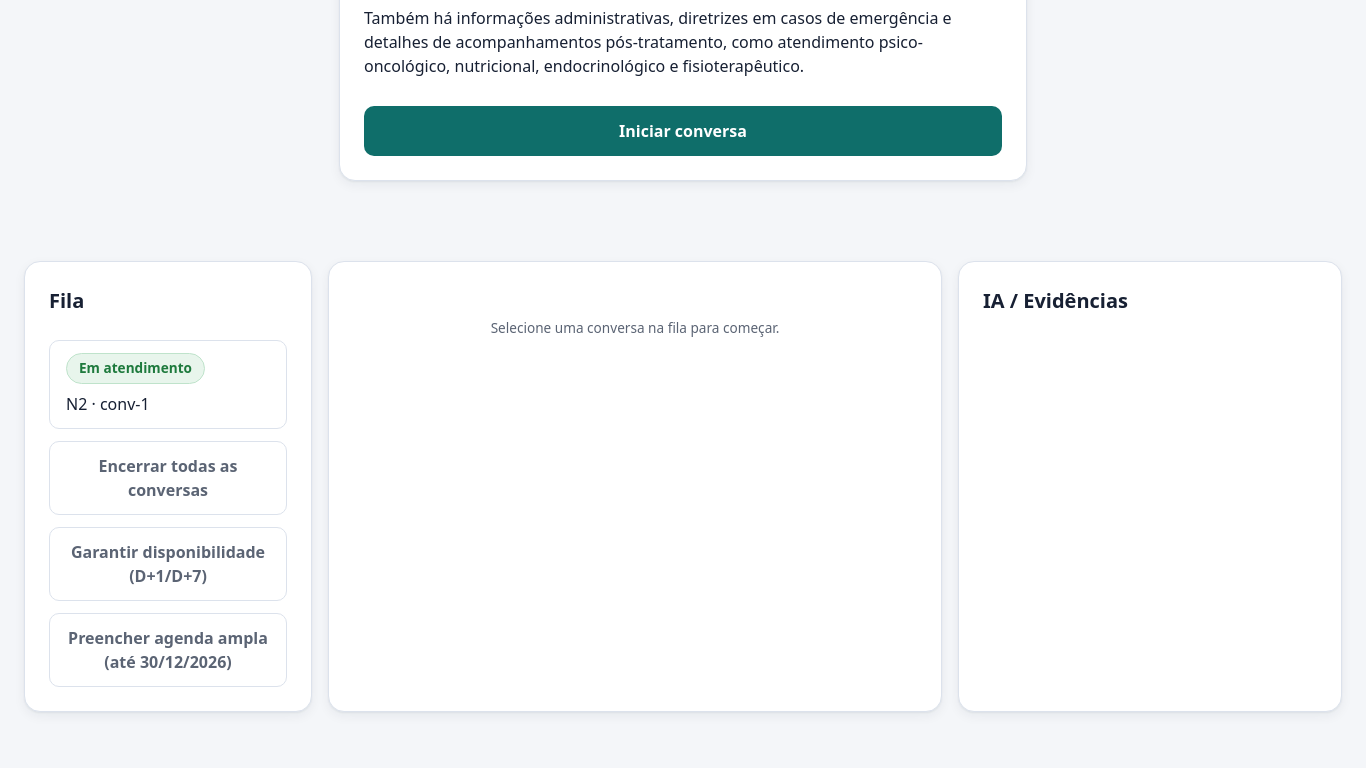
Test: V1 routes › shows the operator-facing booking summary once a booking flow completed, distinguishing full and specialty-only detail (007/BS-5)
(page scrolled)
Click the button "Em atendimento N2 · conv-1" at coordinates (168, 384), box [49,340,287,429]
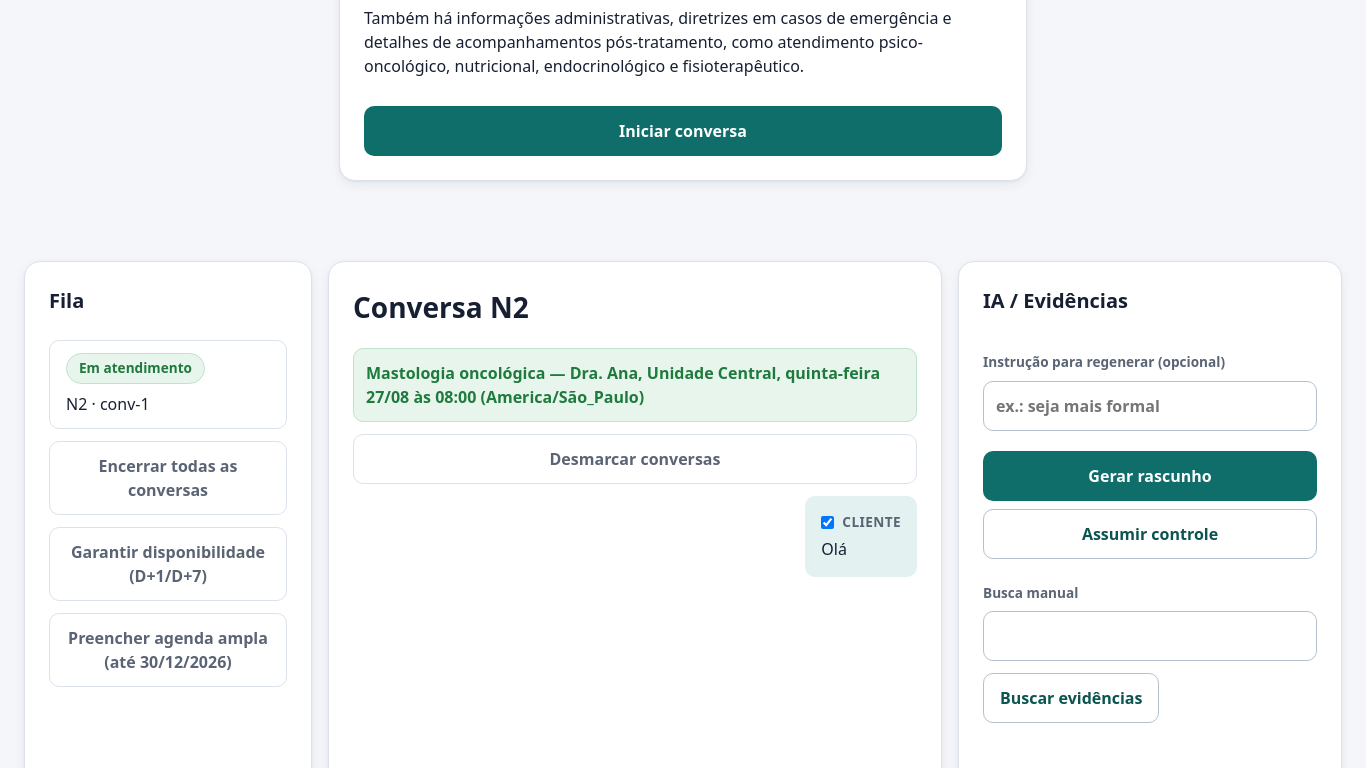
expect the text named "Agendamento realizado" shows "Mastologia oncológica": met, box [366,362,880,408]
